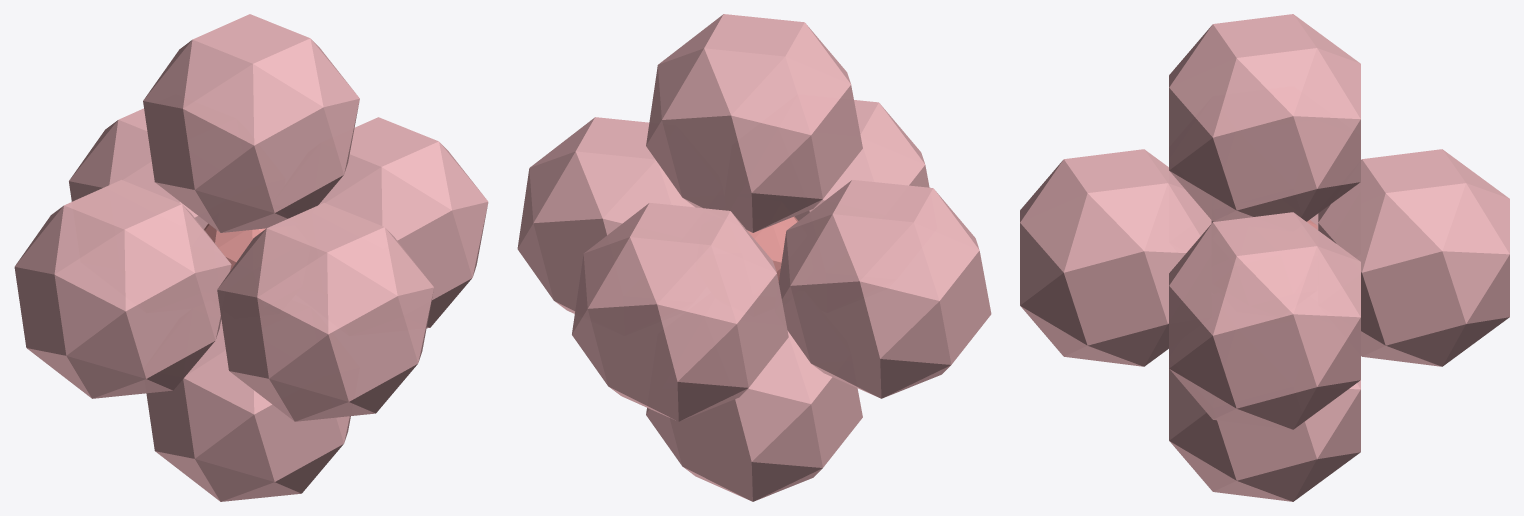
Rendered from fractalsnubcube1.glb.
3 views of the same model, side by side, from view 1: azimuth 30°, elevation 25°; view 2: azimuth 150°, elevation 25°; view 3: azimuth 270°, elevation 25° (orthographic).
Size of the model in its own units: 10.29 by 10.29 by 10.29.
